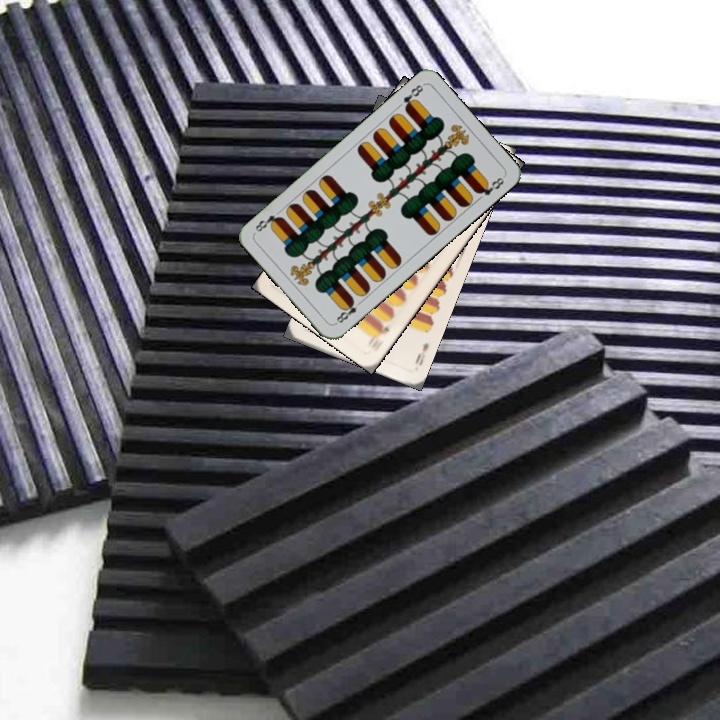E10: (368, 321, 392, 350)
E8: (331, 295, 365, 327), (399, 80, 426, 114)
E9: (411, 339, 432, 368)
